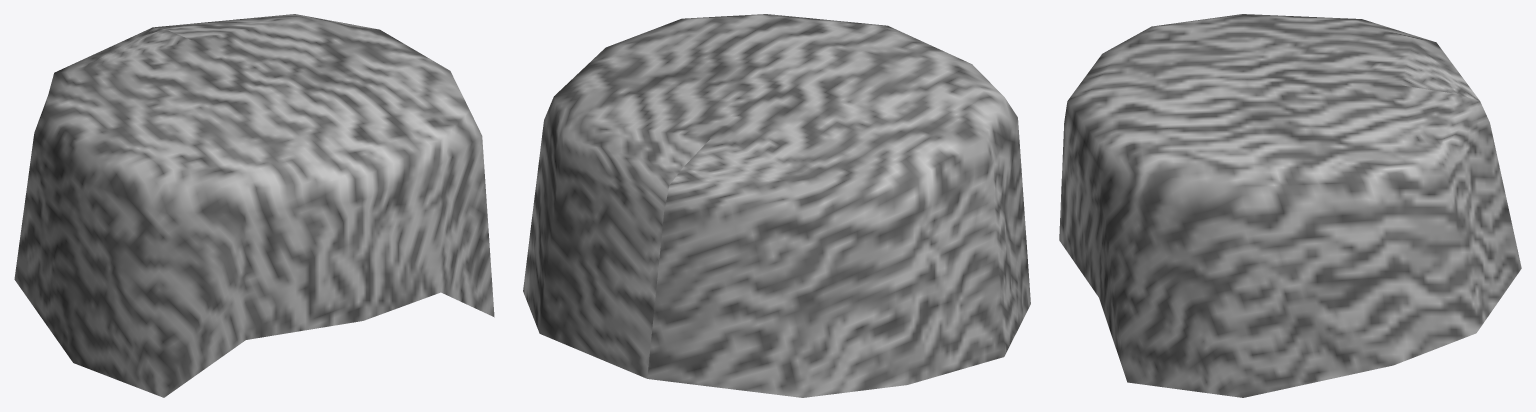
File: Wig_Bob_Hair_Fresh.fbx
The picture shows the model from 3 angles, left to right: view 1: azimuth 30°, elevation 25°; view 2: azimuth 150°, elevation 25°; view 3: azimuth 270°, elevation 25°; orthographic projection. The views are drawn at different scales.
Visible parts, largest first — view 1: BoxOfJars003; view 2: BoxOfJars003; view 3: BoxOfJars003.
Boxes of the visible parts, x1,y1,x2,y2 form: BoxOfJars003: (14, 14, 494, 397); BoxOfJars003: (523, 14, 1030, 397); BoxOfJars003: (1059, 14, 1521, 397).
Bounding box in the file's own units: 10.46 × 5.55 × 10.59.
